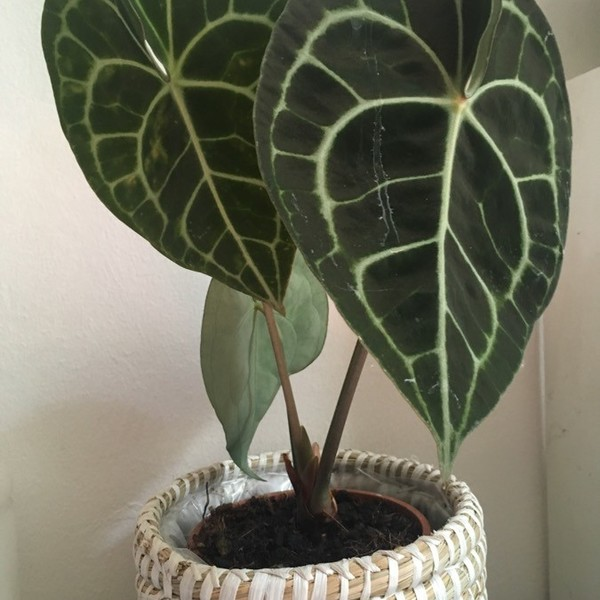obstacle: (38, 0, 533, 596)
